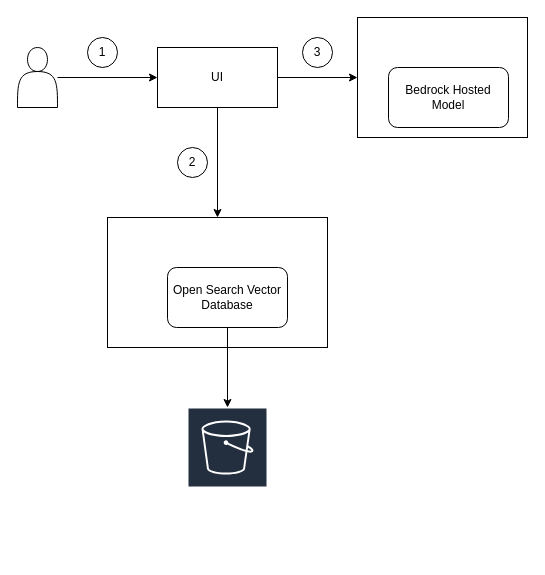
The diagram is 545 pixels wide and 575 high, and some of its shapes have lost their labels. The box of each missing label's shape, as (x1, y1, x2, y2) in pixels:
Becrock API: (356, 16, 528, 138)
Bedrock Knowledgebase: (106, 216, 328, 348)
S3 Bucket - Hosting data to create Knowledge Base: (186, 406, 268, 558)
